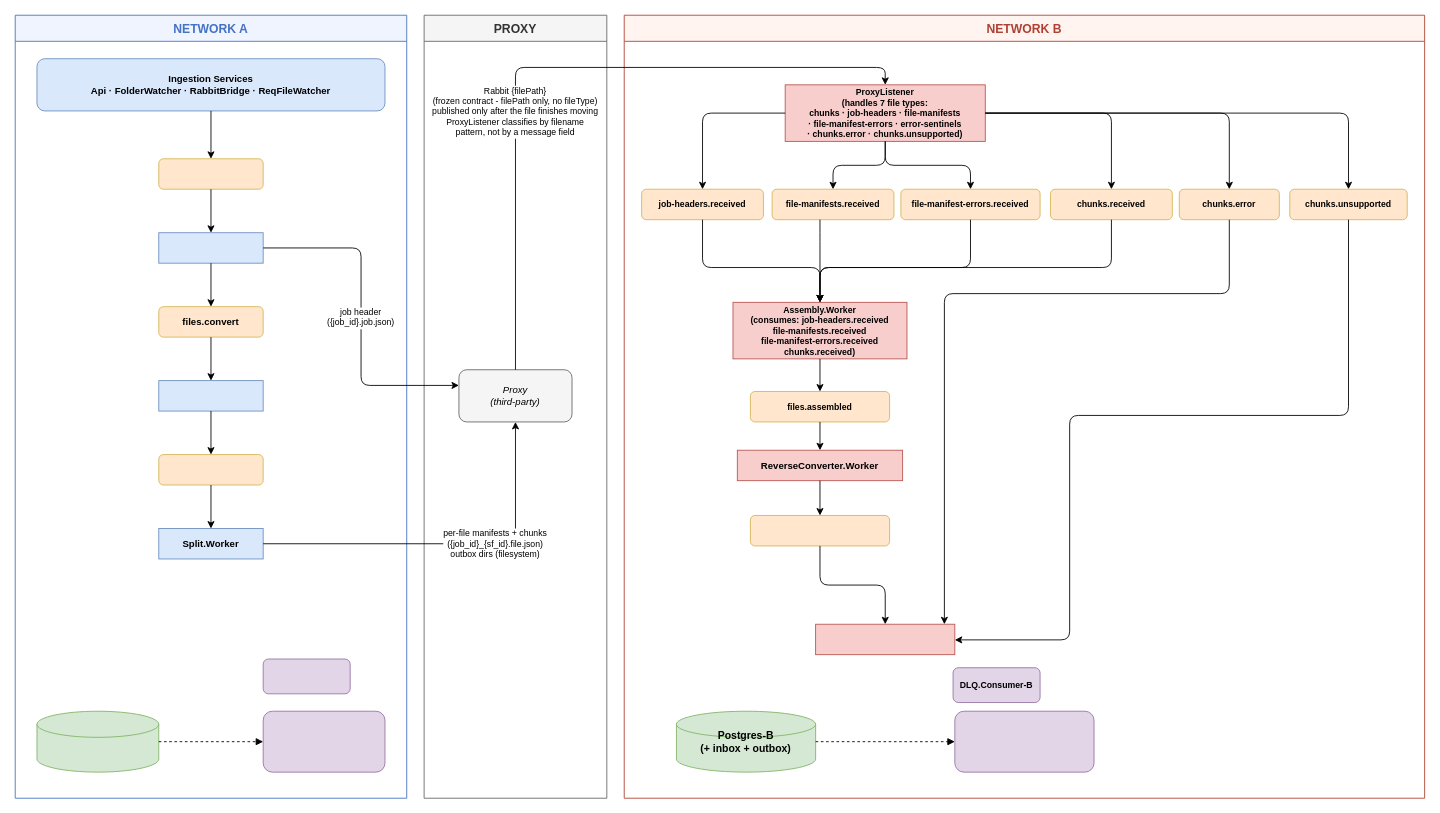
Some shapes in this 1440 by 813 pixel diagram are drawn without their labels. The shapes that lost their labels are listed below. From the top down, each one's centre as x and y in pixels, then its label:
At point 210,173: "jobs.created".
At point 210,247: "Prepare.Worker".
At point 210,395: "Convert.Worker".
At point 210,469: "files.split".
At point 820,530: "files.finalized".
At point 885,639: "Reporter.Worker".
At point 306,676: "DLQ.Consumer-A".
At point 97,741: "Postgres-A (+ outbox table)".
At point 323,741: "OutboxRelay-A (polls outbox, publishes to RabbitMQ-A w/ confirm)".
At point 1024,741: "OutboxRelay-B (polls outbox, publishes to RabbitMQ-B w/ confirm)".
